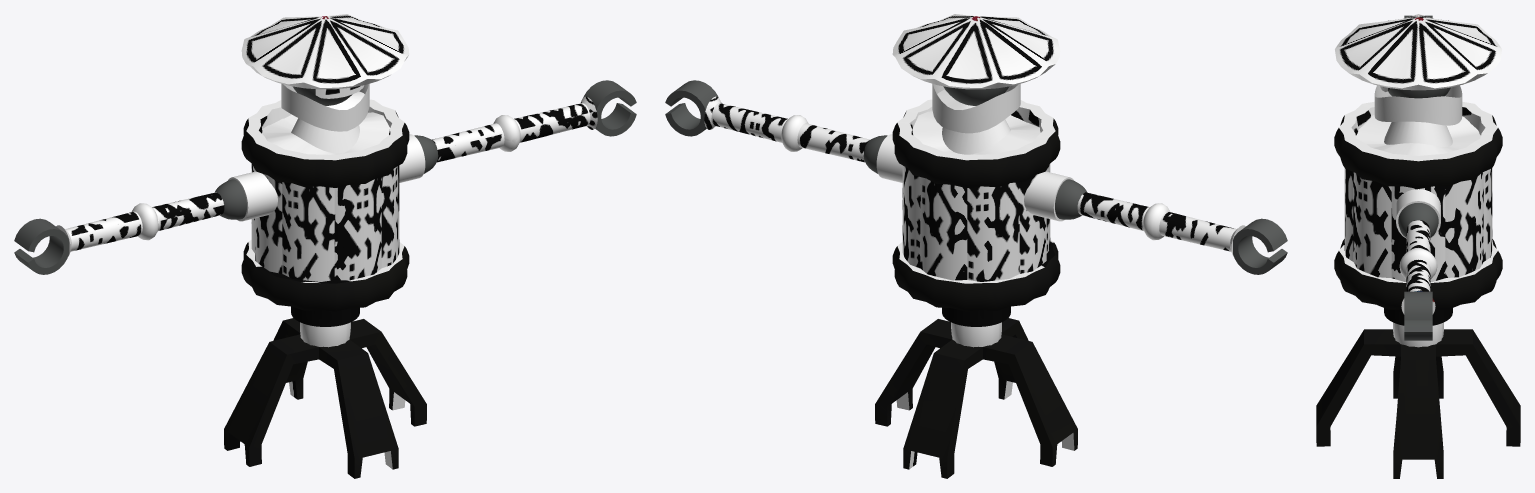
The model's file is robotLumberjackBroken.fbx.
3 renders of one model, left to right at view 1: azimuth 30°, elevation 25°; view 2: azimuth 150°, elevation 25°; view 3: azimuth 270°, elevation 25°, orthographic.
Visible parts, largest first — view 1: player.003, player.010, player.006, player.020, player.029, player.016, player.007; view 2: player.003, player.010, player.006, player.020, player.029, player.016, player.007; view 3: player.003, player.010, player.006, player.029, player.016, player.007.
Part boxes in pixels (x1,y1,x2,y2): player.003: [241, 84, 409, 326]; player.010: [224, 318, 426, 478]; player.006: [241, 14, 409, 89]; player.020: [14, 192, 224, 274]; player.029: [432, 80, 636, 162]; player.016: [214, 134, 438, 221]; player.007: [292, 85, 364, 105]; player.003: [892, 84, 1060, 326]; player.010: [875, 318, 1077, 478]; player.006: [892, 14, 1060, 89]; player.020: [1077, 192, 1287, 274]; player.029: [665, 80, 869, 162]; player.016: [863, 134, 1087, 221]; player.007: [943, 86, 1009, 105]; player.003: [1334, 85, 1502, 325]; player.010: [1316, 322, 1520, 478]; player.006: [1335, 14, 1501, 90]; player.029: [1399, 220, 1437, 340]; player.016: [1396, 189, 1440, 238]; player.007: [1380, 86, 1450, 98].
Size of the model in its own units: 488 by 321 by 142.
